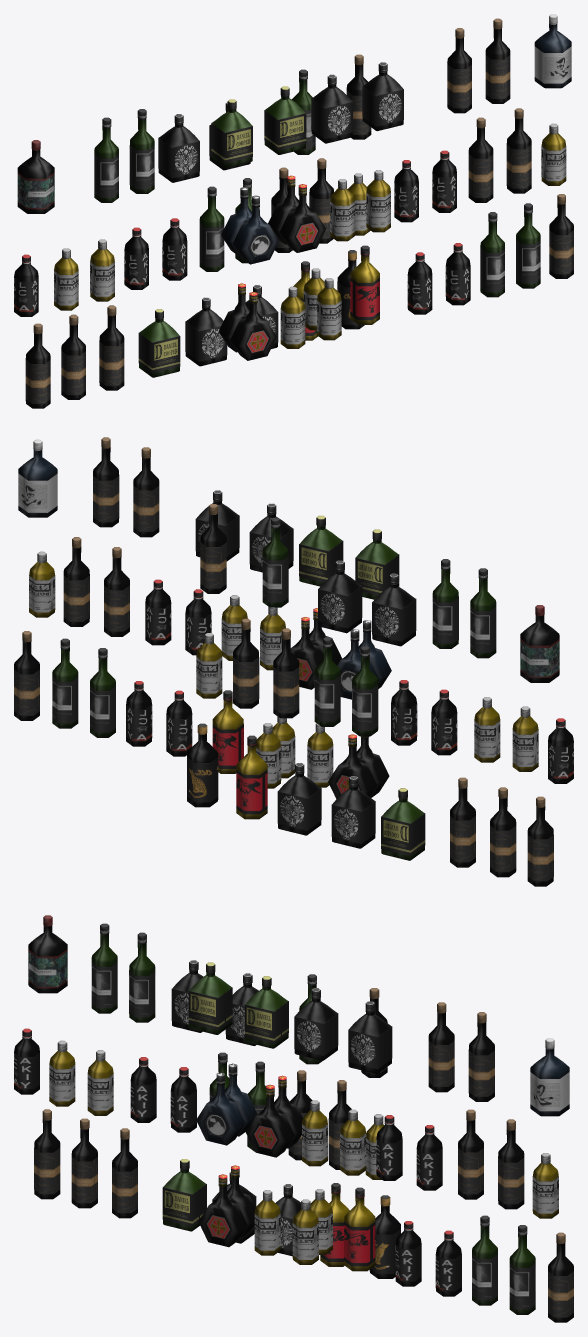
Rendered from bottle.fbx.
3 views of the same model, one above another, from view 1: azimuth 30°, elevation 25°; view 2: azimuth 150°, elevation 25°; view 3: azimuth 330°, elevation 25° (orthographic). The views are drawn at different scales.
Visible parts, largest first — view 1: 1Fhotel_alcholbottle_grupe.001, 1Fhotel_alcholbottle_grupe; view 2: 1Fhotel_alcholbottle_grupe, 1Fhotel_alcholbottle_grupe.001; view 3: 1Fhotel_alcholbottle_grupe.001, 1Fhotel_alcholbottle_grupe.
Part boxes in pixels (x1=…): 1Fhotel_alcholbottle_grupe.001: x1=211, y1=14, x2=573, y2=360; 1Fhotel_alcholbottle_grupe: x1=14, y1=54, x2=371, y2=408; 1Fhotel_alcholbottle_grupe: x1=187, y1=504, x2=573, y2=886; 1Fhotel_alcholbottle_grupe.001: x1=14, y1=437, x2=399, y2=798; 1Fhotel_alcholbottle_grupe.001: x1=188, y1=962, x2=573, y2=1322; 1Fhotel_alcholbottle_grupe: x1=14, y1=915, x2=400, y2=1278.
Bounding box in the file's own units: 230 × 121 × 31.81.
